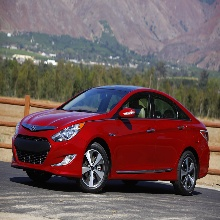no damage: (11, 83, 213, 196)
